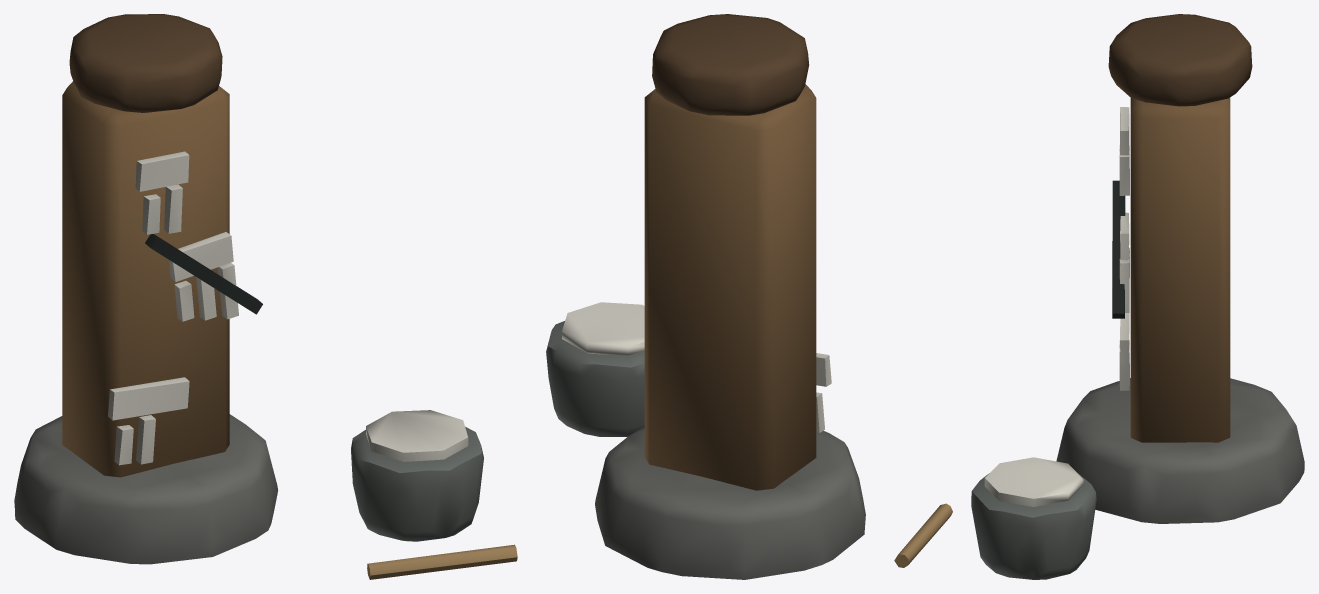
Rendered from milepost_a_lod1.glb.
The picture shows the model from 3 angles, left to right: view 1: azimuth 30°, elevation 25°; view 2: azimuth 150°, elevation 25°; view 3: azimuth 270°, elevation 25°; orthographic projection. The views are drawn at different scales.
Parts seen in each view (by area): view 1: Surface.001; view 2: Surface.001; view 3: Surface.001.
Boxes of the visible parts, x1,y1,x2,y2 form: Surface.001: [14, 14, 517, 579]; Surface.001: [546, 14, 865, 579]; Surface.001: [894, 14, 1304, 579].
Bounding box in the file's own units: 1.33 × 1.67 × 1.4.
